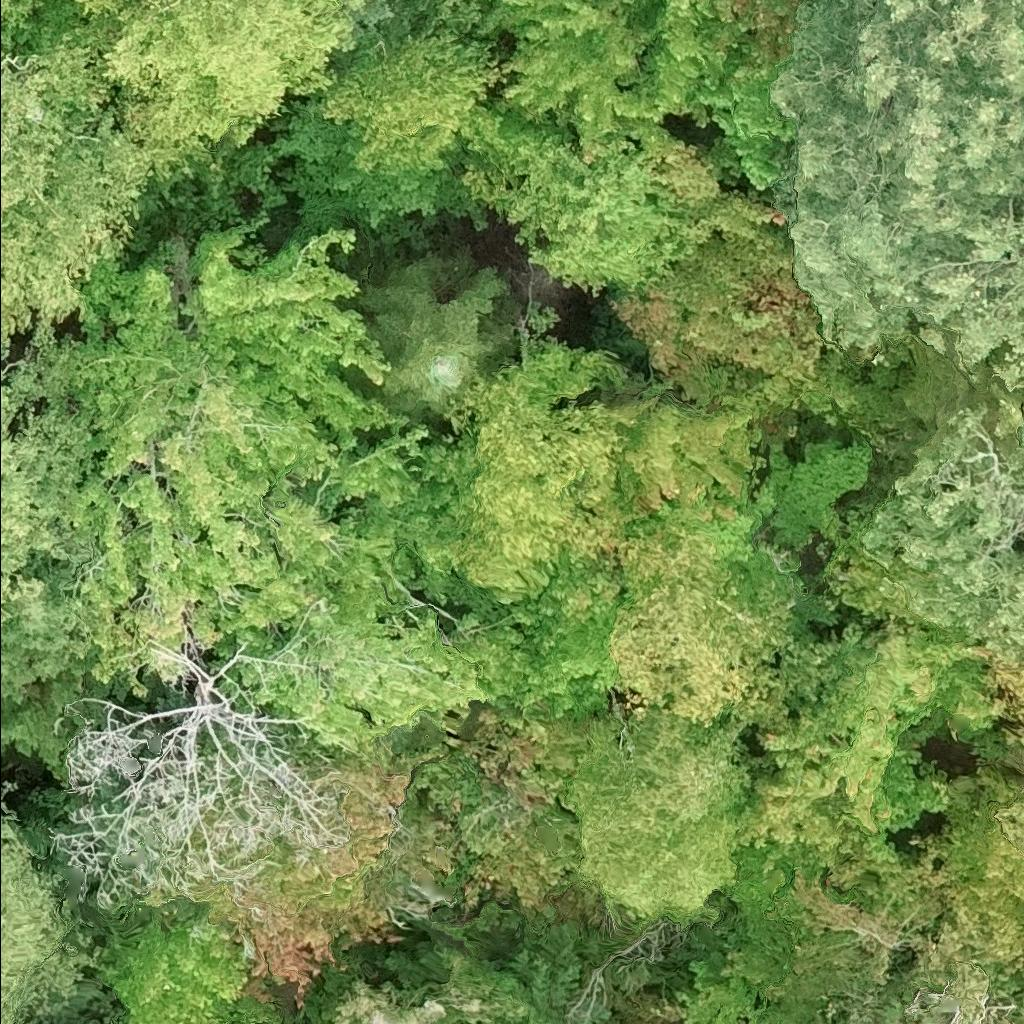crown: (47, 211, 492, 757), (774, 0, 1023, 351), (45, 655, 347, 911), (408, 303, 658, 607), (738, 613, 1001, 869), (765, 768, 1023, 1004), (612, 141, 830, 411), (0, 341, 126, 783), (76, 0, 353, 188), (607, 510, 842, 731), (0, 0, 151, 340), (208, 760, 408, 1007), (462, 99, 698, 294), (564, 708, 749, 930), (864, 398, 1023, 653), (608, 0, 811, 195), (414, 712, 595, 920), (308, 0, 513, 173), (474, 0, 681, 168), (457, 547, 626, 728), (319, 924, 608, 1023), (360, 256, 521, 415), (0, 785, 101, 1023), (616, 395, 771, 535), (898, 330, 1023, 474), (916, 220, 1023, 385), (90, 917, 251, 1023), (902, 959, 1016, 1023), (966, 648, 1023, 719), (993, 788, 1023, 853), (1003, 723, 1023, 746), (437, 0, 451, 16), (1021, 421, 1023, 434)
